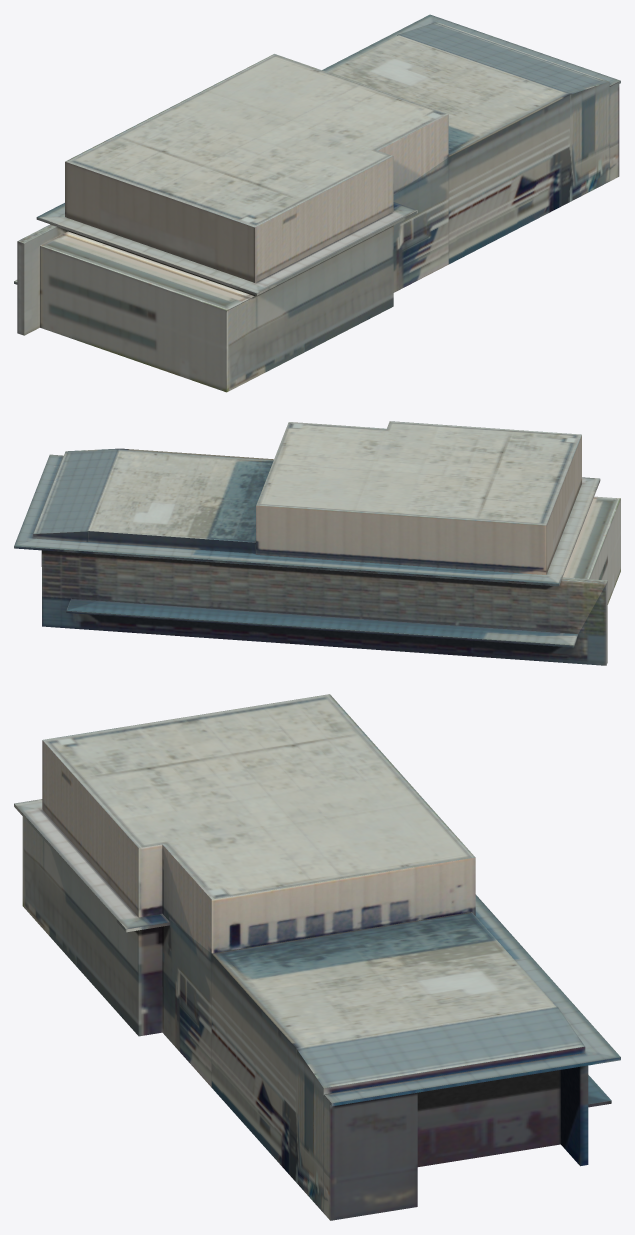
3 views of the same model, one above another, from view 1: azimuth 30°, elevation 25°; view 2: azimuth 150°, elevation 25°; view 3: azimuth 270°, elevation 25° (orthographic). The views are drawn at different scales.
Parts seen in each view (by area): view 1: 12_0.glb_1, Singtel stage tower and waterfront panels; view 2: 12_0.glb_1, Singtel stage tower and waterfront panels; view 3: 12_0.glb_1, Singtel stage tower and waterfront panels.
Part boxes in pixels (bbox=[...]): 12_0.glb_1: bbox=[14, 14, 620, 392]; Singtel stage tower and waterfront panels: bbox=[65, 114, 448, 282]; 12_0.glb_1: bbox=[14, 421, 620, 665]; Singtel stage tower and waterfront panels: bbox=[42, 435, 605, 633]; 12_0.glb_1: bbox=[14, 694, 620, 1220]; Singtel stage tower and waterfront panels: bbox=[42, 740, 475, 953].
Size of the model in its own units: 79.62 by 18.64 by 54.46.
Materials: 2 (2 with a texture image).
